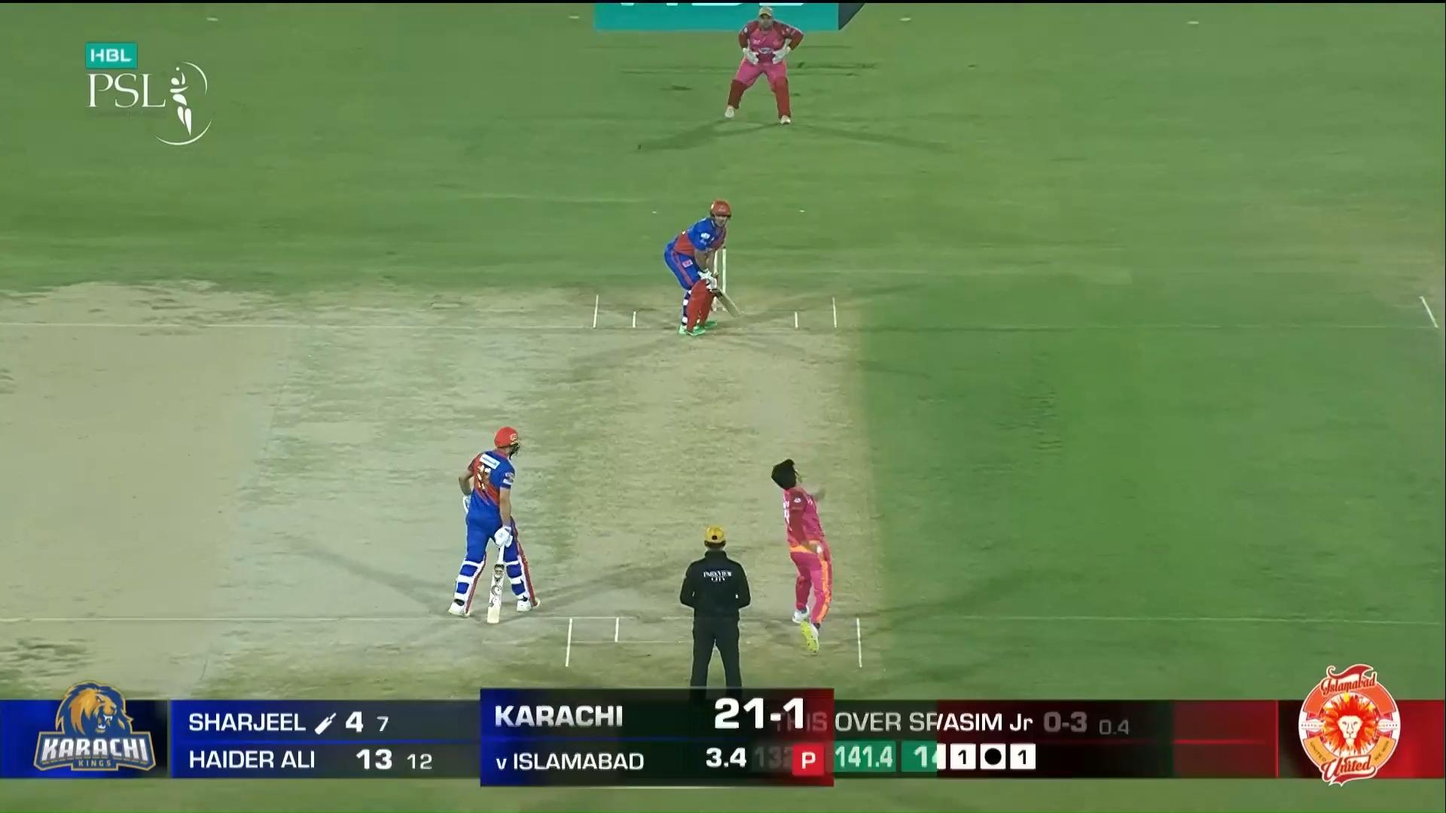batsman: (663, 200, 741, 336)
